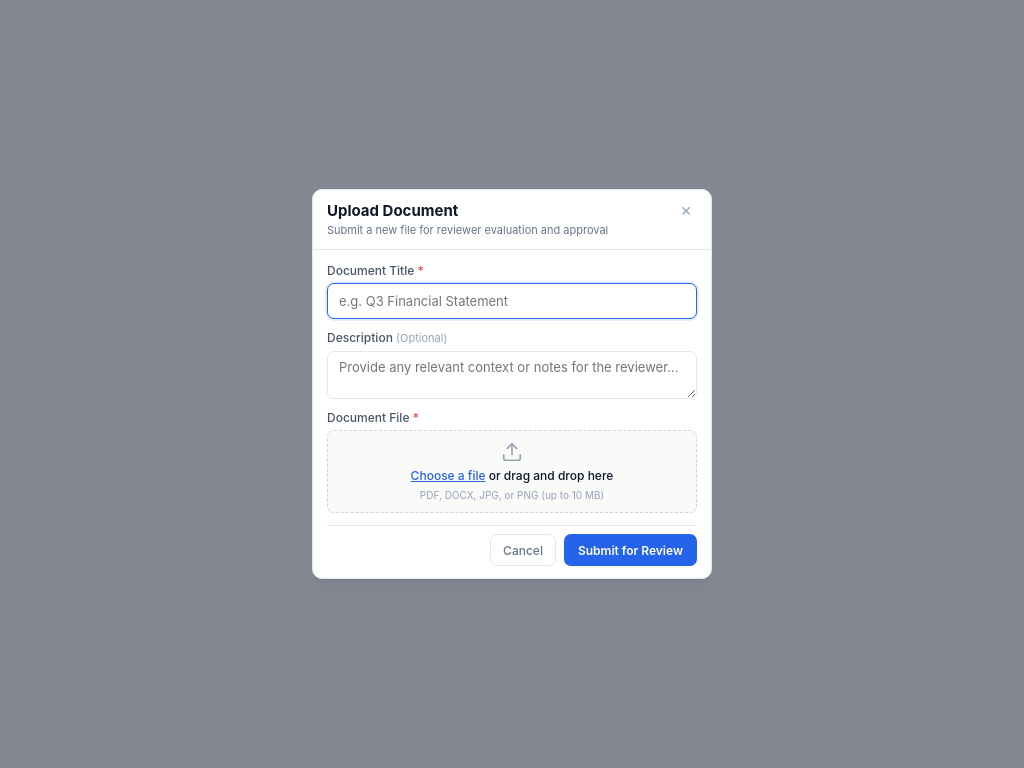
Test: UploadModal › validates that title is required before submit
The image size is (1024, 768).
Click the button "Submit for Review": (630, 550) top-left (564, 534), bottom-right (697, 566)
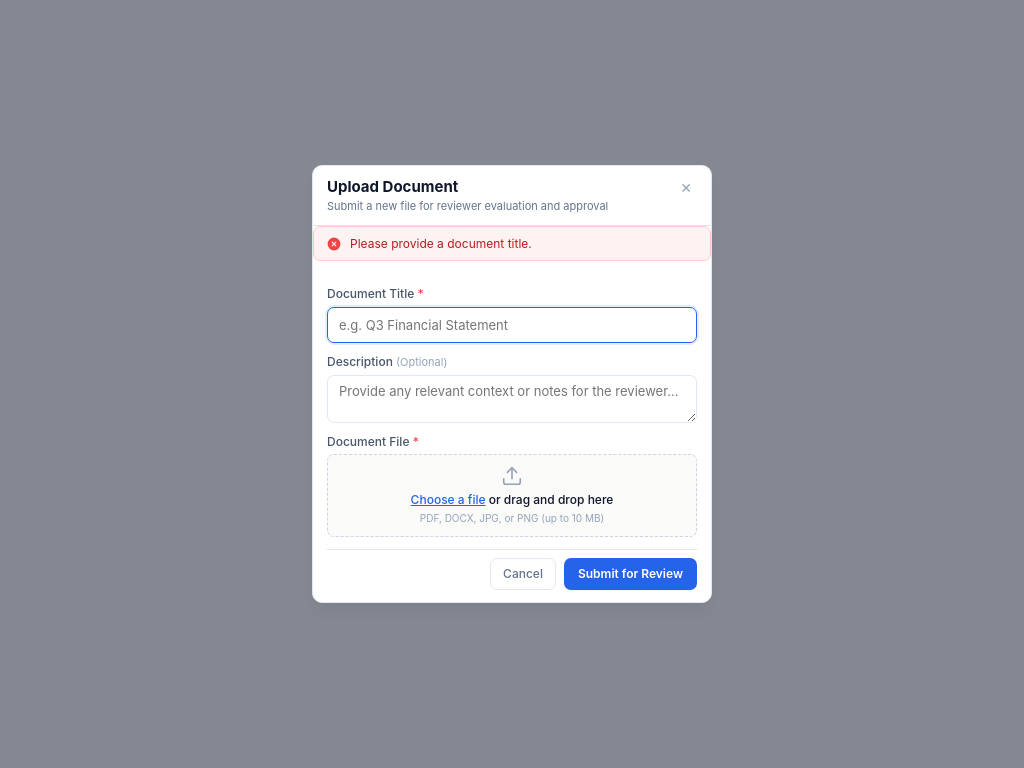
Result: the text "Please provide a document title." is shown at top-left (350, 235), bottom-right (532, 252)
